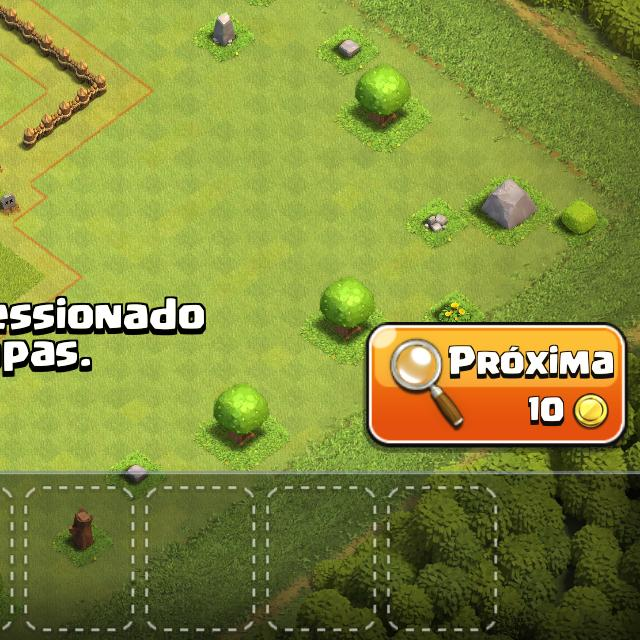Next: (363, 322, 631, 453)
